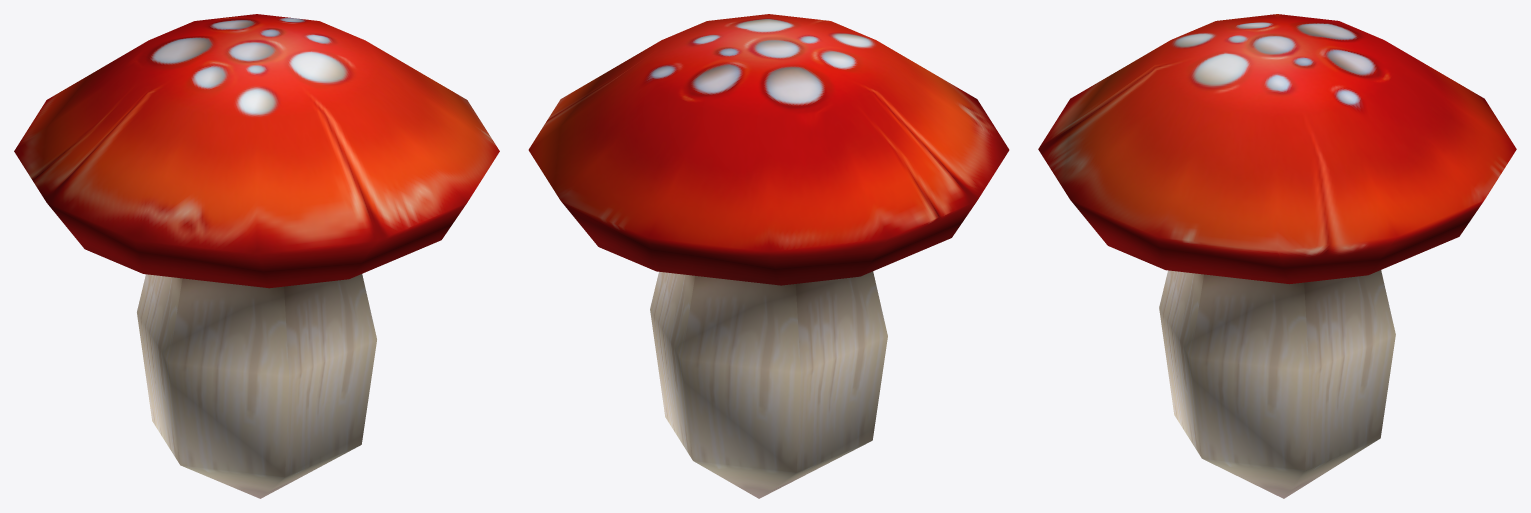
The model's file is Mushroom18.fbx.
3 views of the same model, side by side, from view 1: azimuth 30°, elevation 25°; view 2: azimuth 150°, elevation 25°; view 3: azimuth 270°, elevation 25° (orthographic).
Visible parts, largest first — view 1: Mushroom18; view 2: Mushroom18; view 3: Mushroom18.
Boxes of the visible parts, <box> form: Mushroom18: <box>14,14,499,498</box>; Mushroom18: <box>528,14,1009,498</box>; Mushroom18: <box>1038,14,1516,498</box>.
Size of the model in its own units: 1.2 by 1.24 by 1.2.
